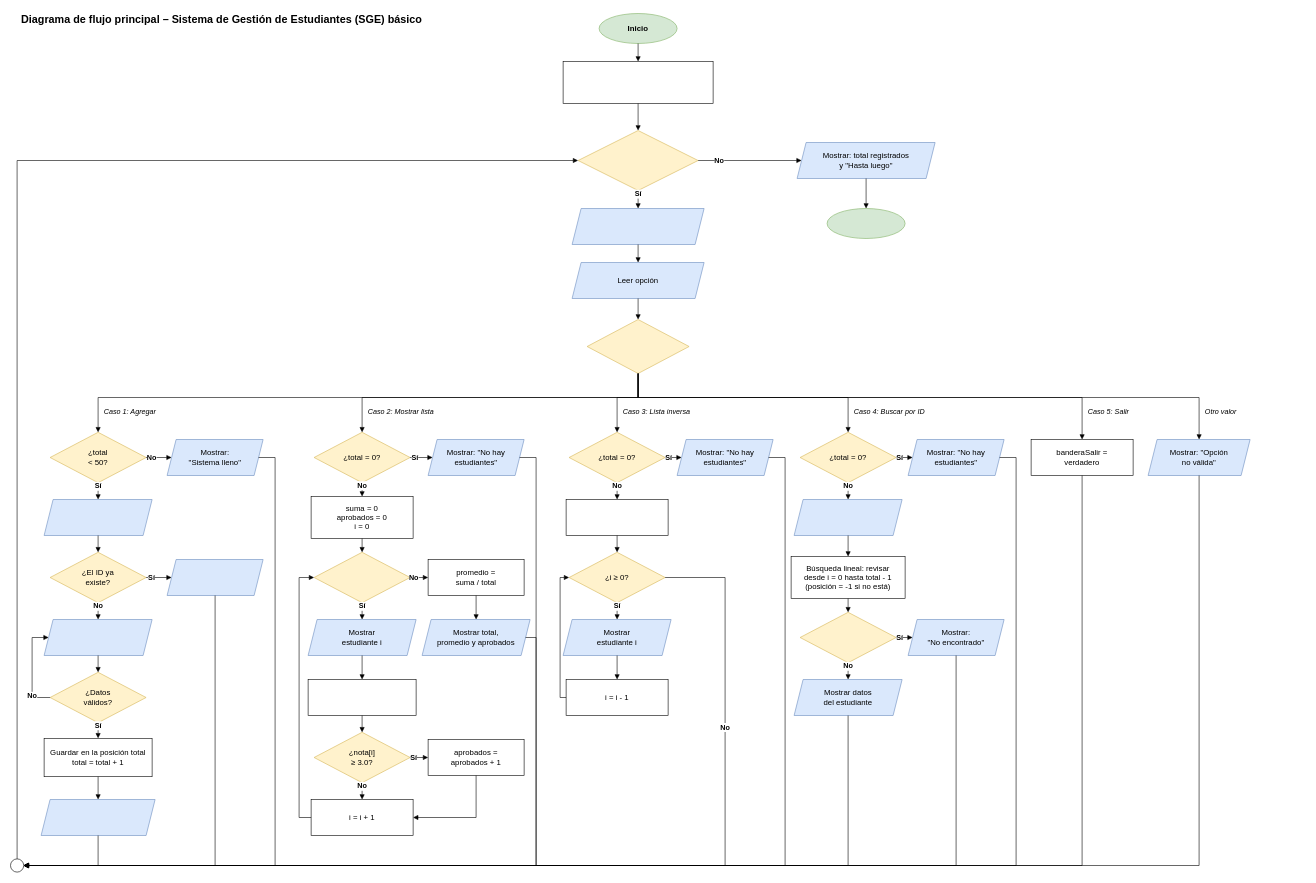
The diagram is 1316 pixels wide and 883 high, and some of its shapes have lost their labels. Here are the shapes that lost their labels. From the top down, the centre of each, then its label:
(637,82): totalEstudiantes = 0 banderaSalir = falso Crear arreglos de tamaño 50
(638,160): ¿banderaSalir = falso?
(638,226): Mostrar menú (opciones 1 a 5)
(865,223): Fin
(637,346): opción
(98,517): Leer ID
(617,517): i = total - 1
(848,517): Leer ID a buscar
(214,577): Mostrar: "ID repetido"
(362,577): ¿i < total?
(98,637): Leer nombre, edad y nota
(848,637): ¿posición = -1?
(362,697): suma = suma + nota[i]
(97,817): Mostrar: "Estudiante agregado"
